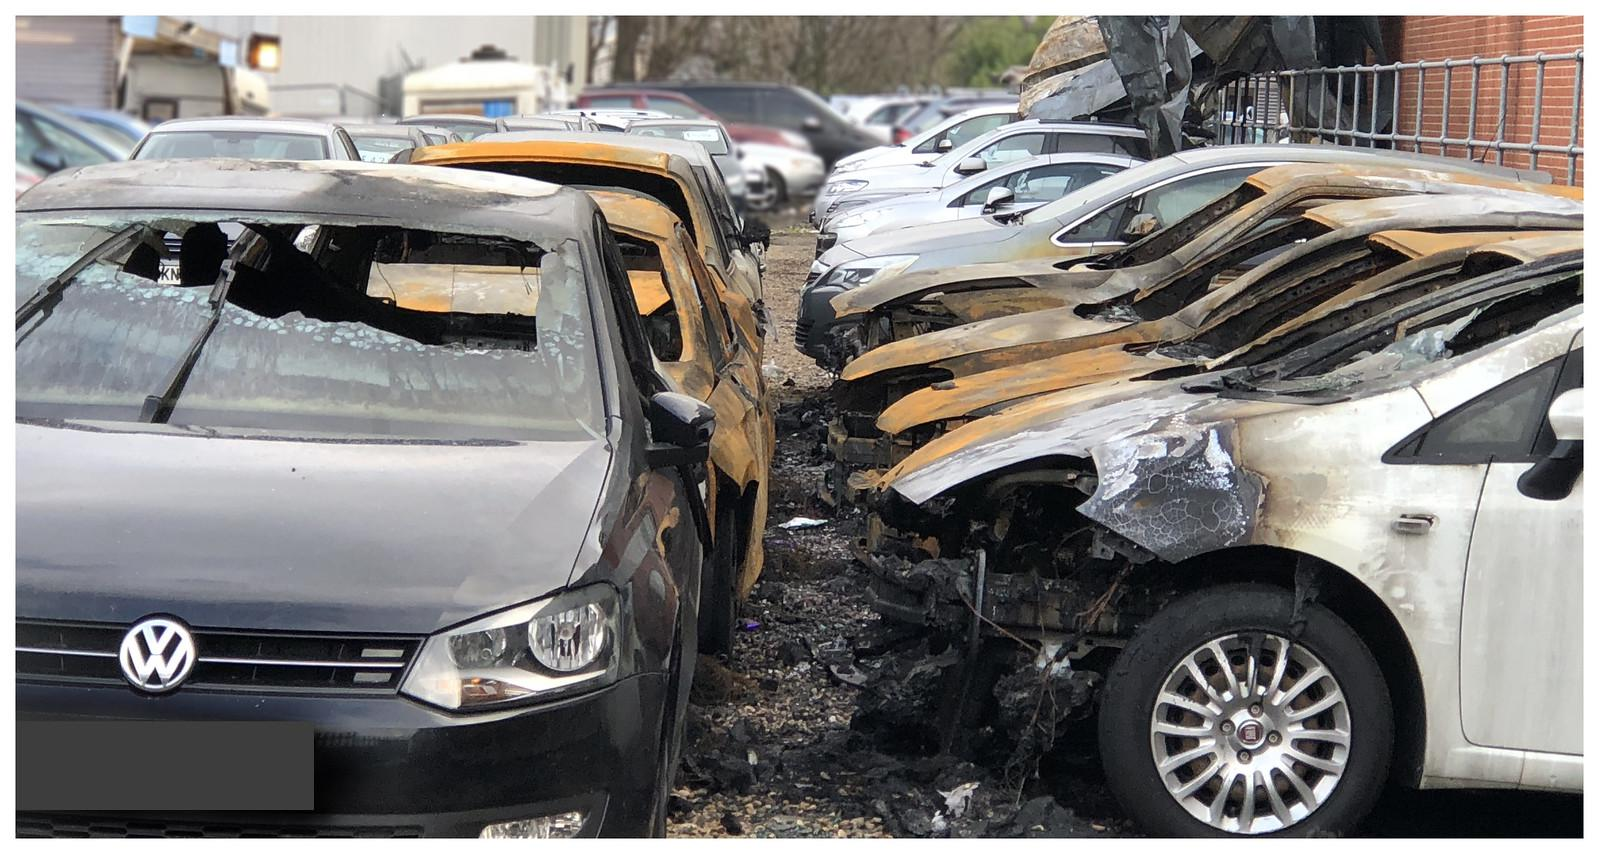Front-Windscreen-Damage: (18, 163, 570, 440)
